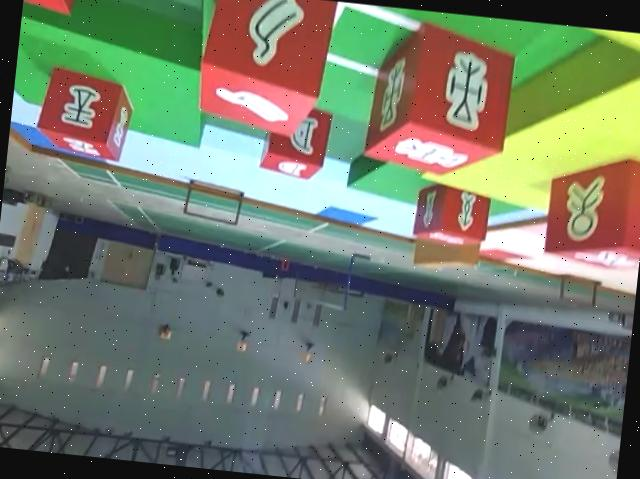R2 Real: (361, 16, 519, 184), (192, 0, 341, 144), (540, 149, 640, 273), (33, 60, 140, 165), (256, 100, 337, 185), (410, 179, 495, 249), (21, 0, 90, 21)
